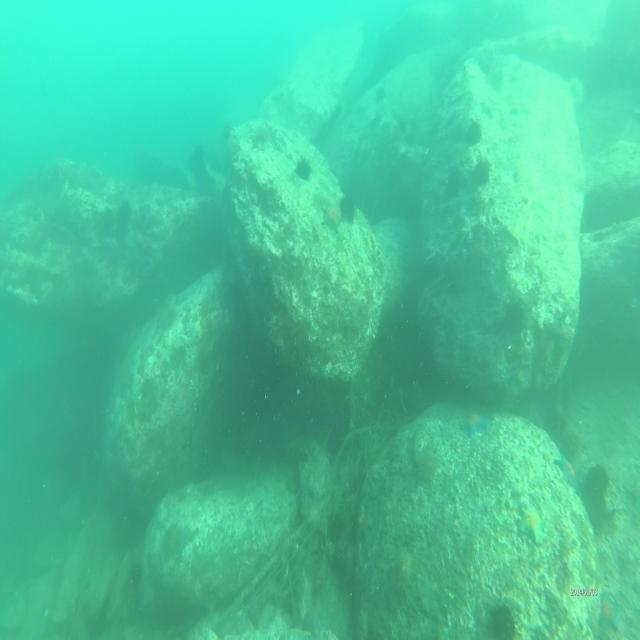echinus: (488, 600, 522, 640), (583, 461, 610, 508), (389, 550, 417, 594), (417, 448, 440, 484), (161, 519, 181, 558), (342, 543, 361, 578), (559, 430, 579, 457), (473, 158, 490, 189), (338, 191, 354, 223), (117, 200, 134, 230), (465, 117, 480, 150), (571, 72, 586, 105), (95, 205, 114, 231), (293, 155, 311, 182), (446, 167, 461, 197)
starfish: (554, 446, 585, 498), (518, 500, 546, 546), (597, 586, 621, 629), (462, 408, 489, 443), (320, 199, 342, 235), (359, 509, 373, 534), (175, 531, 190, 553)
